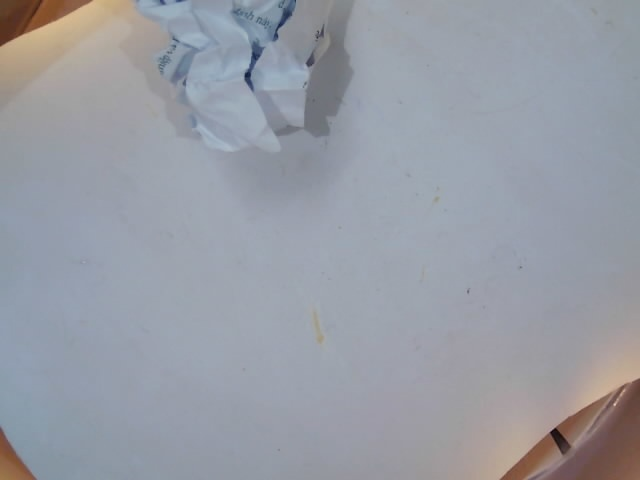paper: (98, 0, 444, 161)
